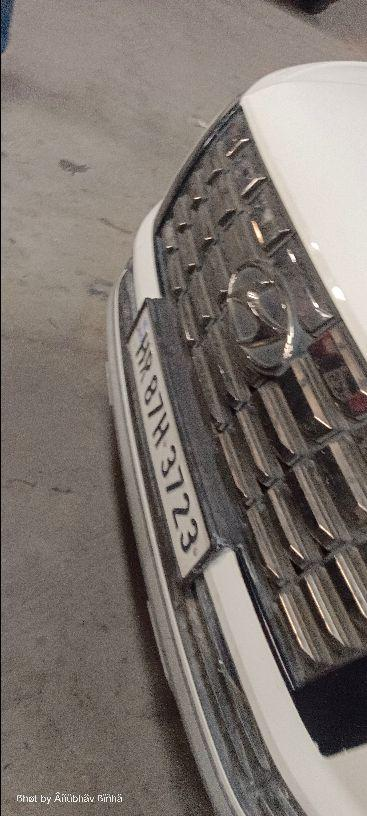license_plate: (104, 58, 365, 814)
